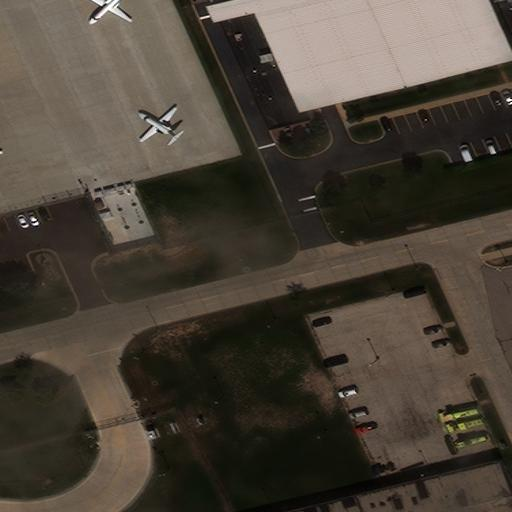Medium Civil Transport: (82, 0, 131, 24)
Small Civil Transport: (138, 106, 177, 141)
